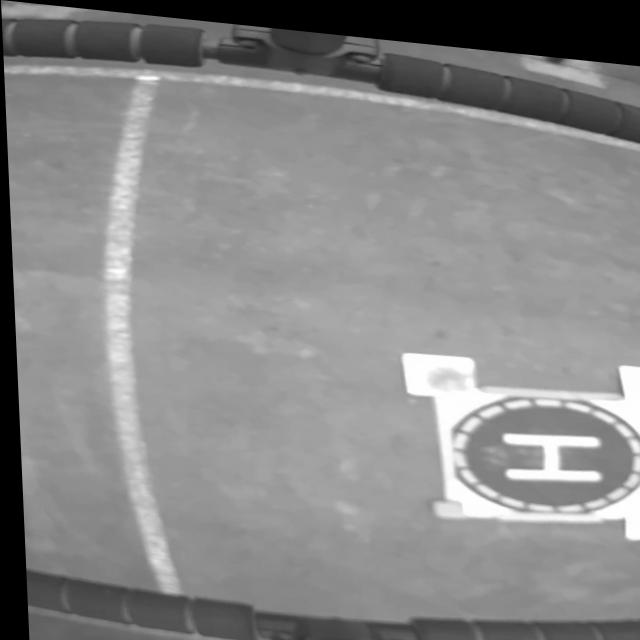Helipad: (499, 421, 600, 470)
